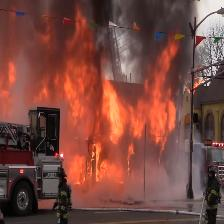fire: (54, 0, 199, 201), (4, 0, 209, 112)
